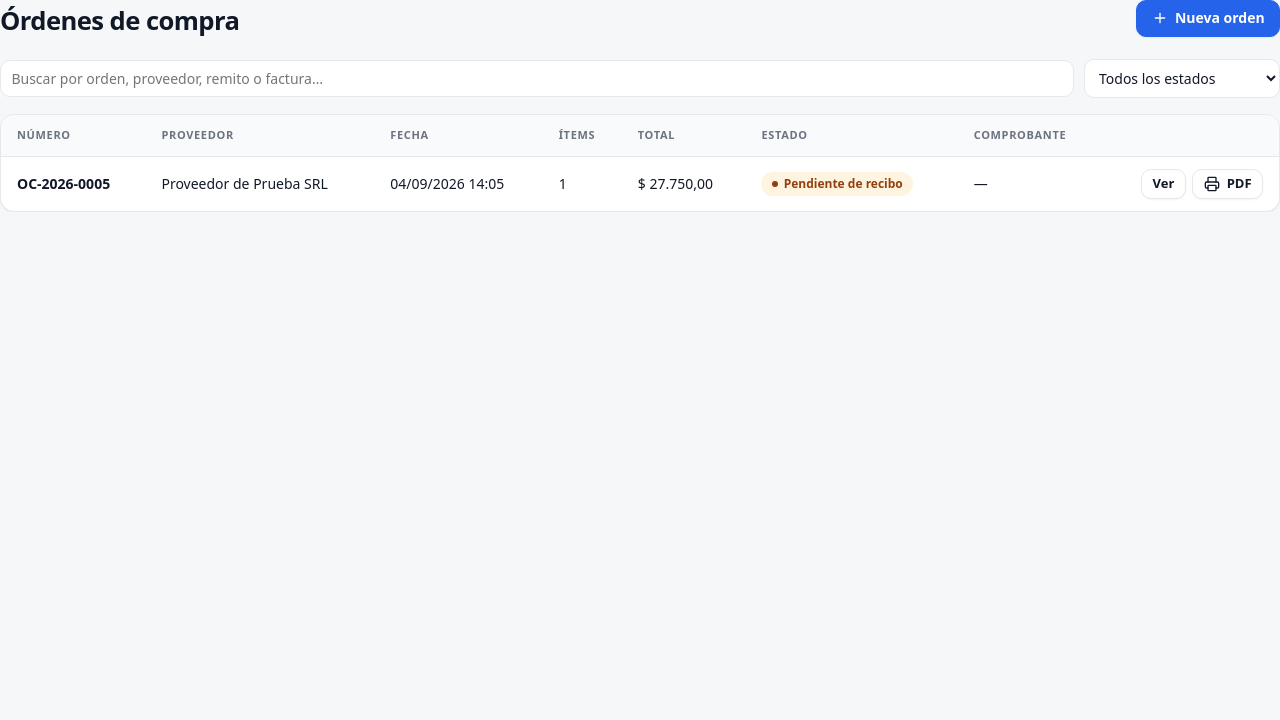
Scenario: OrdenesCompraPage — una sola ventana a la vez › REGRESION: al enviar, el detalle se cierra
Click the button "Ver" at (1164, 184), box [1141,169,1186,199]
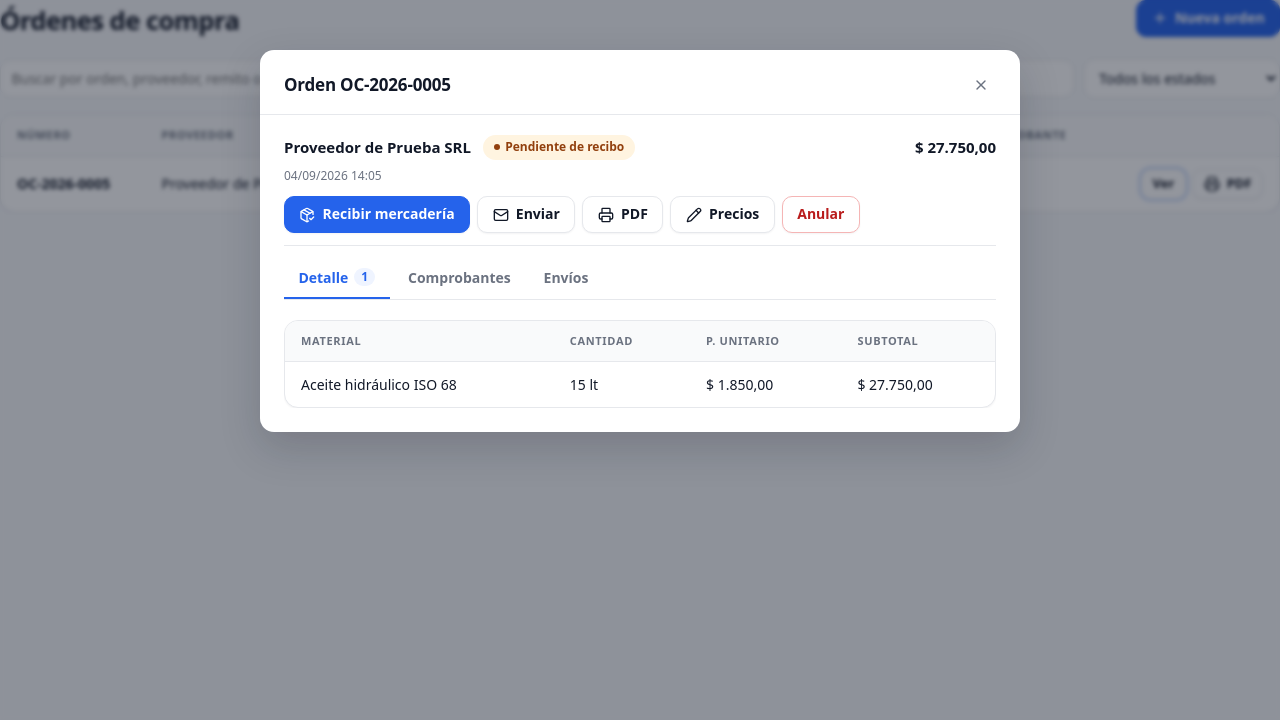
Expected: the heading "Orden OC-2026-0005" is shown, [284,72,451,98]
Click the button with aria-label "enviar al proveedor" at (526, 215), box [477,196,575,233]
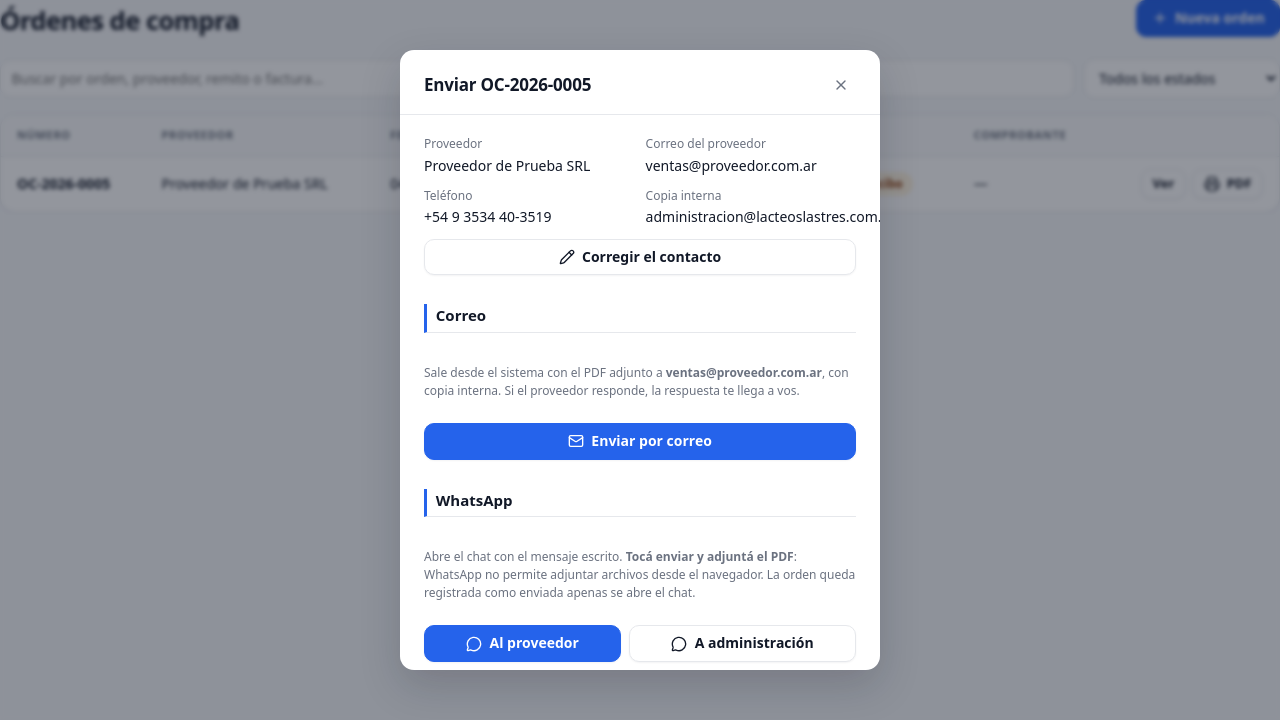
Expected: the heading "Enviar OC-2026-0005" is shown, [424,72,591,98]
Expected: the heading "Orden OC-2026-0005" is gone
